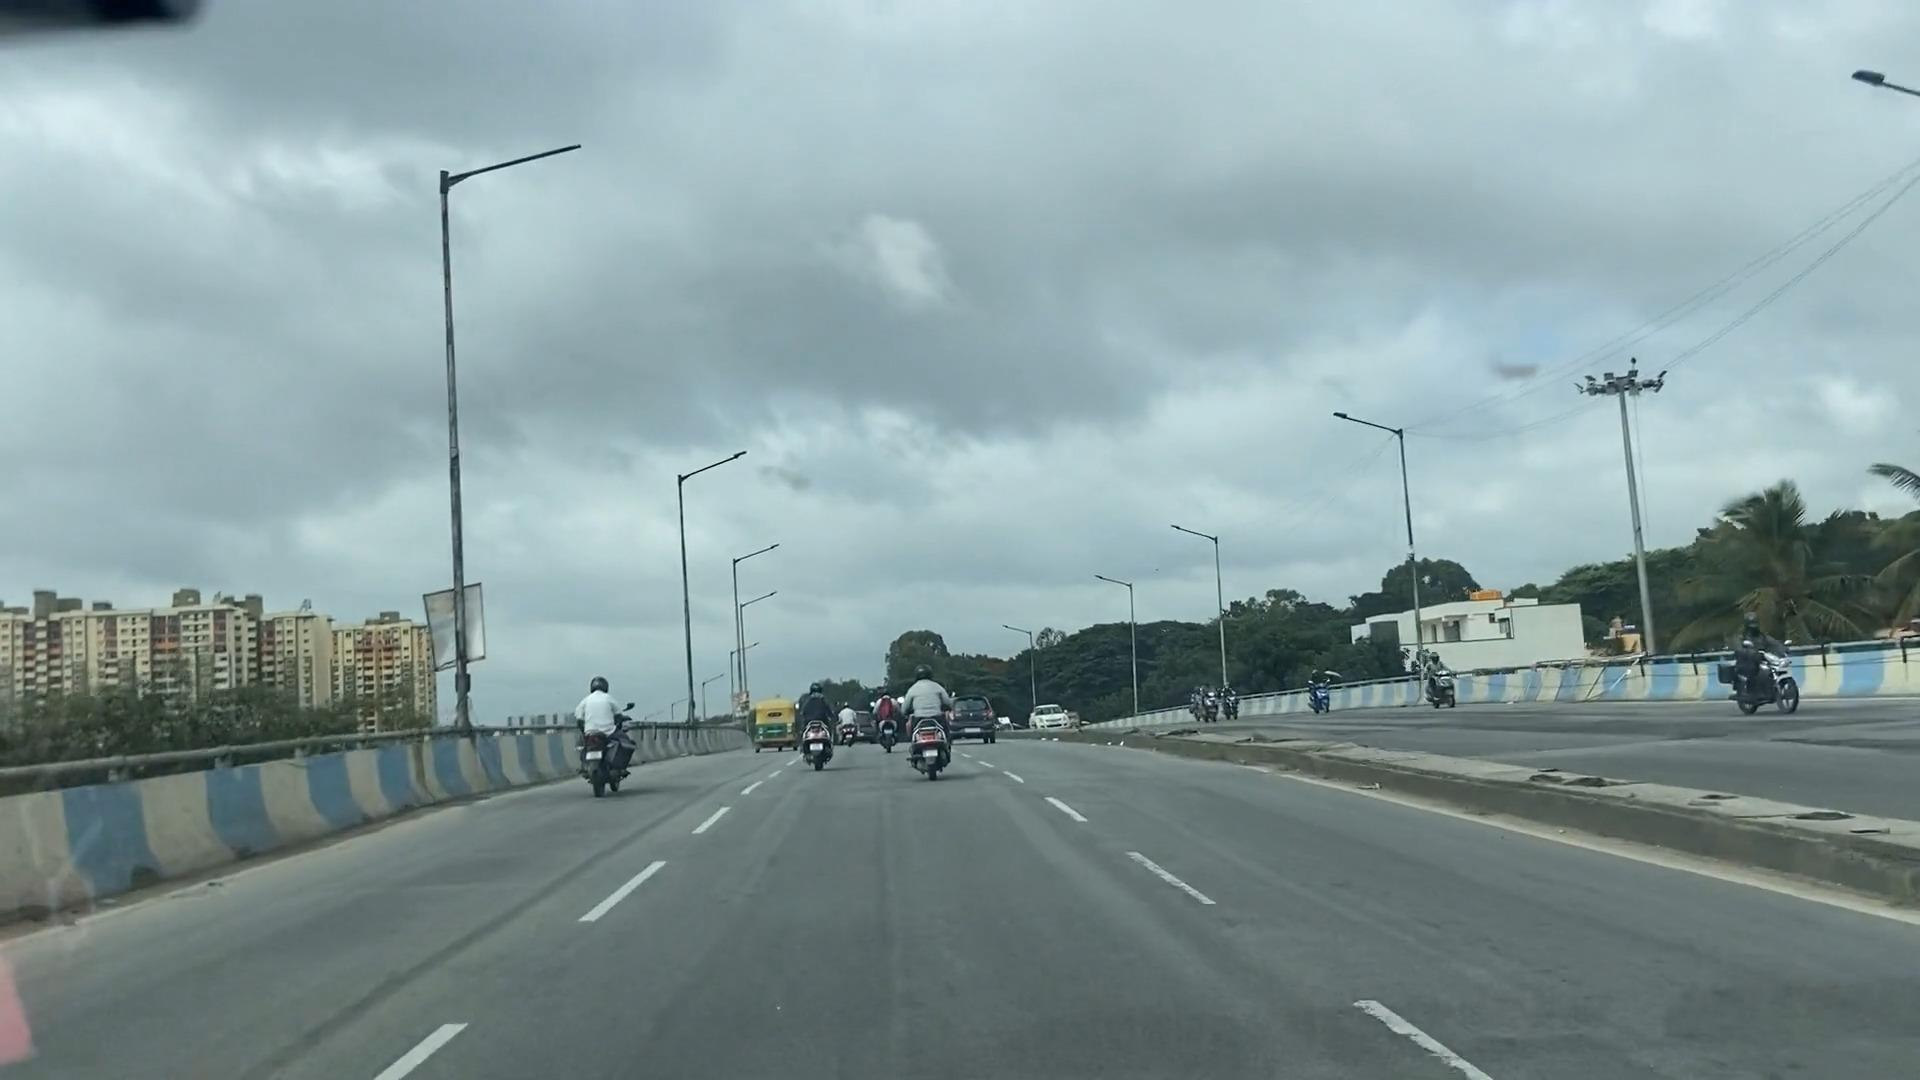LMV: (574, 674, 634, 791), (902, 673, 952, 774), (803, 682, 836, 767), (758, 698, 789, 745)
